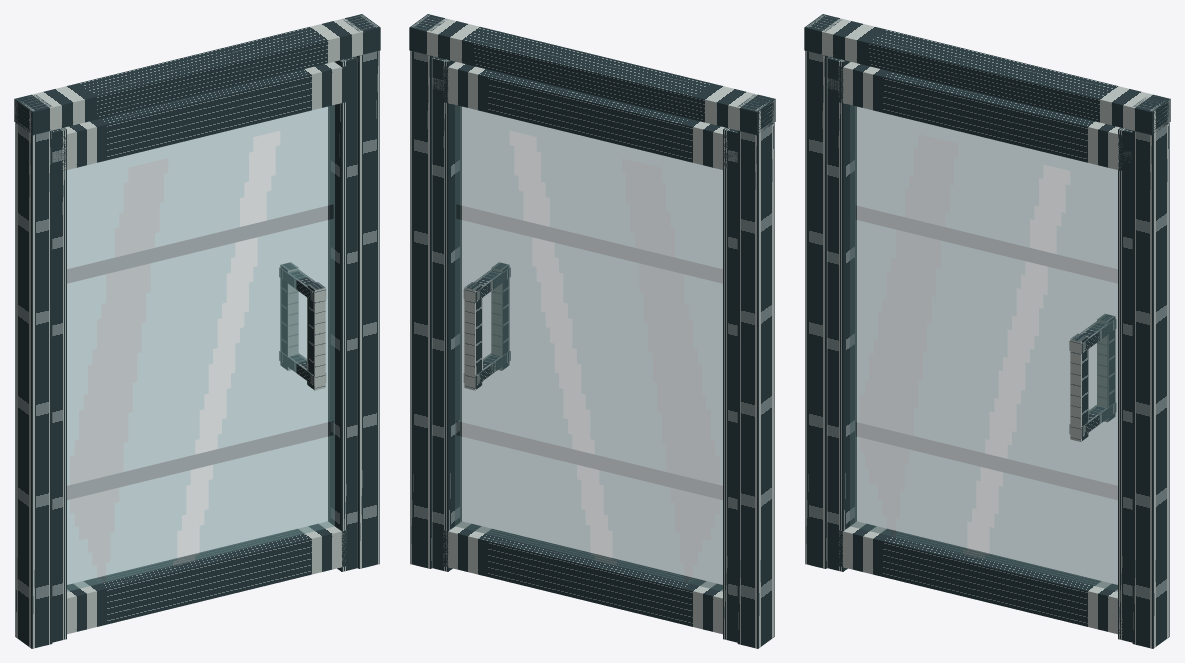
File: puerta_cristal_simple.glb
3 renders of one model, left to right at view 1: azimuth 30°, elevation 25°; view 2: azimuth 150°, elevation 25°; view 3: azimuth 330°, elevation 25°, orthographic.
Visible parts, largest first — view 1: HOJA_VIDRIO_A, HOJA_MARCO_A, MARCO_FIJO; view 2: HOJA_VIDRIO_A, HOJA_MARCO_A, MARCO_FIJO; view 3: HOJA_VIDRIO_A, HOJA_MARCO_A, MARCO_FIJO.
Boxes of the visible parts, x1,y1,x2,y2 form: HOJA_VIDRIO_A: (67,105,334,591); HOJA_MARCO_A: (52,56,357,642); MARCO_FIJO: (14,14,380,648); HOJA_VIDRIO_A: (455,105,722,591); HOJA_MARCO_A: (432,56,737,642); MARCO_FIJO: (409,14,775,648); HOJA_VIDRIO_A: (850,105,1117,591); HOJA_MARCO_A: (827,56,1132,642); MARCO_FIJO: (804,14,1170,648).
Size of the model in its own units: 1.52 by 2.25 by 0.264.
2 materials, 2 textured.
